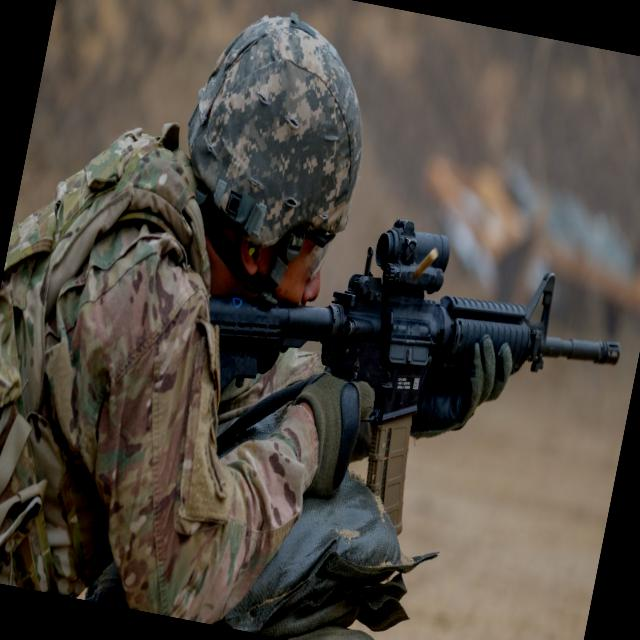long weapon: (295, 212, 639, 506)
